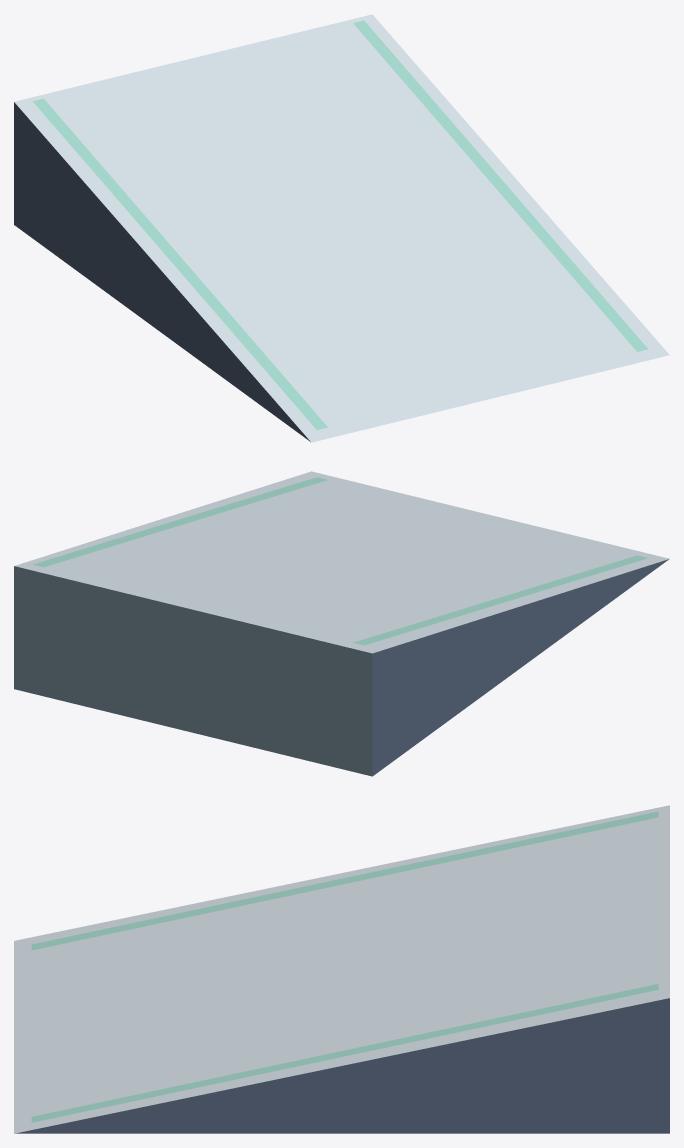
The model's file is ramp.glb.
3 renders of one model, top to bottom at view 1: azimuth 30°, elevation 25°; view 2: azimuth 150°, elevation 25°; view 3: azimuth 270°, elevation 25°, orthographic. The views are drawn at different scales.
Visible parts, largest first — view 1: ramp; view 2: ramp; view 3: ramp.
Boxes of the visible parts, x1,y1,x2,y2 form: ramp: (14, 14, 669, 442); ramp: (14, 471, 669, 776); ramp: (14, 805, 669, 1133).
Size of the model in its own units: 3.2 by 1.06 by 4.6.
